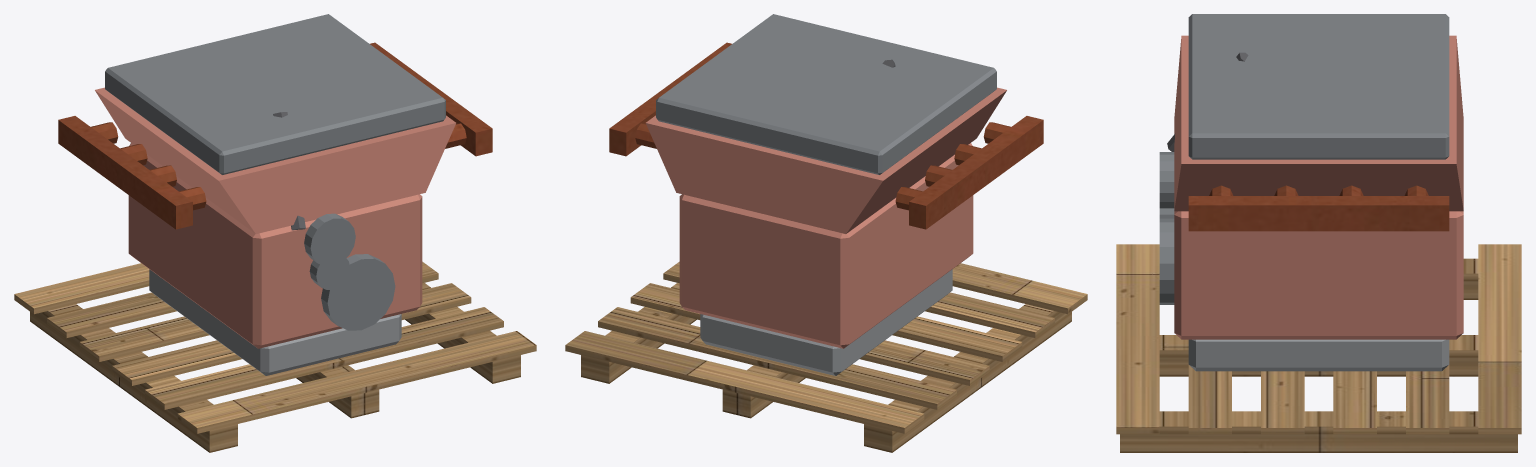
File: engine_pallet_b.glb
3 renders of one model, left to right at view 1: azimuth 30°, elevation 25°; view 2: azimuth 150°, elevation 25°; view 3: azimuth 270°, elevation 25°, orthographic. The views are drawn at different scales.
Parts seen in each view (by area): view 1: engine_pallet_b_engine_r, engine_pallet_b_steel_d, engine_pallet_b_pallet, engine_pallet_b_rust, engine_pallet_b_engine; view 2: engine_pallet_b_engine_r, engine_pallet_b_pallet, engine_pallet_b_steel_d, engine_pallet_b_rust, engine_pallet_b_engine; view 3: engine_pallet_b_engine_r, engine_pallet_b_pallet, engine_pallet_b_steel_d, engine_pallet_b_rust, engine_pallet_b_engine.
Part boxes in pixels (x1,y1,x2,y2): engine_pallet_b_engine_r: (95, 87, 455, 348); engine_pallet_b_steel_d: (105, 14, 445, 330); engine_pallet_b_pallet: (14, 261, 536, 452); engine_pallet_b_rust: (58, 42, 492, 229); engine_pallet_b_engine: (149, 269, 401, 375); engine_pallet_b_engine_r: (646, 87, 1006, 348); engine_pallet_b_pallet: (565, 261, 1087, 452); engine_pallet_b_steel_d: (656, 14, 996, 174); engine_pallet_b_rust: (609, 42, 1043, 229); engine_pallet_b_engine: (700, 269, 952, 375); engine_pallet_b_engine_r: (1174, 35, 1463, 339); engine_pallet_b_pallet: (1116, 244, 1521, 452); engine_pallet_b_steel_d: (1159, 14, 1449, 304); engine_pallet_b_rust: (1188, 185, 1449, 231); engine_pallet_b_engine: (1188, 339, 1449, 371).
Bounding box in the file's own units: 1.2 × 0.9141 × 1.12.
6 materials, 2 textured.
